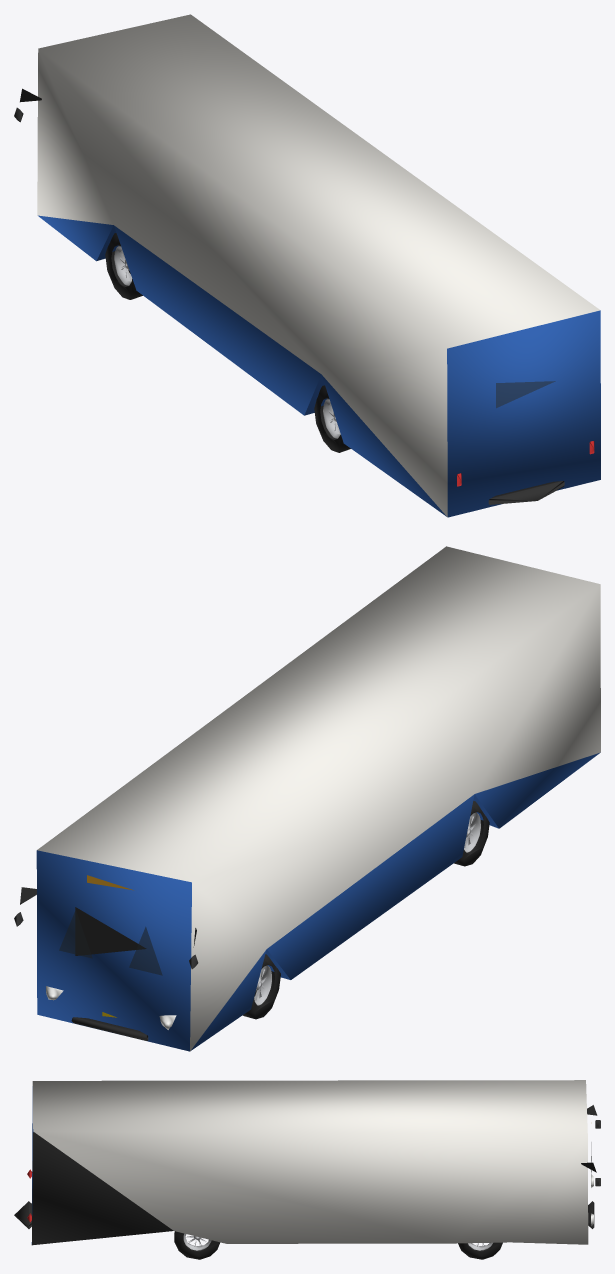
Rendered from bus_0_lo.glb.
3 renders of one model, top to bottom at view 1: azimuth 30°, elevation 25°; view 2: azimuth 150°, elevation 25°; view 3: azimuth 270°, elevation 25°, orthographic. The views are drawn at different scales.
Visible parts, largest first — view 1: body, wheel_0, wheel_2; view 2: body, wheel_0, wheel_2; view 3: body, wheel_3, wheel_1.
Part boxes in pixels (x1,y1,x2,y2): body: (14,14,600,517); wheel_0: (105,233,142,299); wheel_2: (314,385,350,452); body: (14,546,600,1051); wheel_0: (243,954,280,1019); wheel_2: (454,801,489,866); body: (14,1080,600,1245); wheel_3: (174,1231,220,1259); wheel_1: (458,1242,502,1259).
Bounding box in the file's own units: 3.06 × 3.07 × 12.46.
